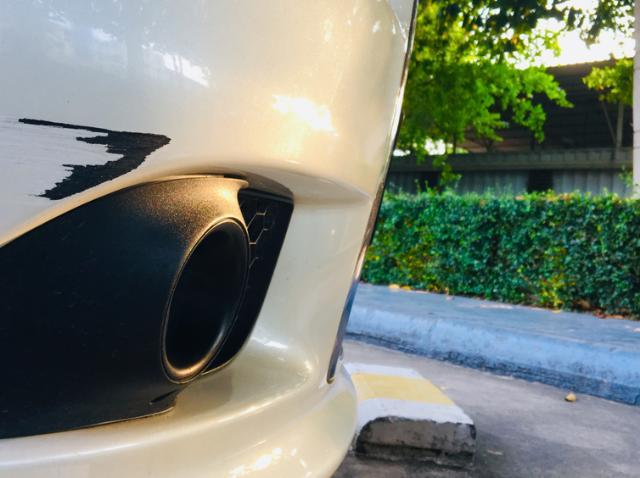Bumper: (1, 100, 195, 221)
